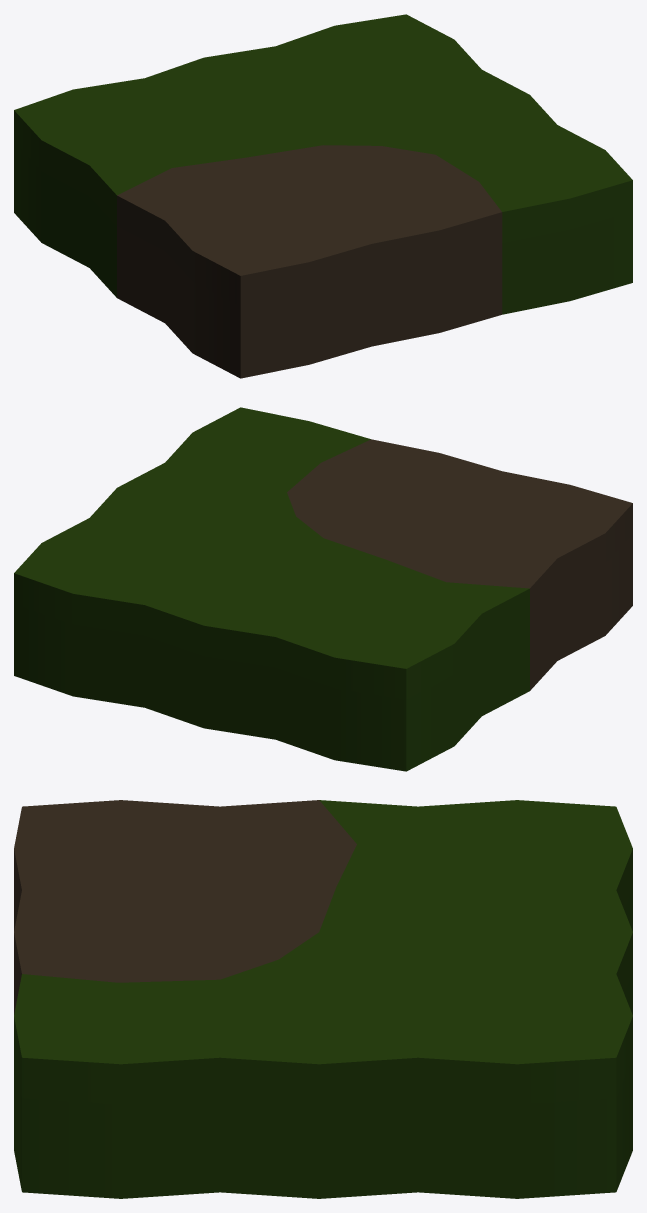
The model's file is jaggeredTile-08b_col.fbx.
3 views of the same model, one above another, from view 1: azimuth 30°, elevation 25°; view 2: azimuth 150°, elevation 25°; view 3: azimuth 270°, elevation 25° (orthographic). The views are drawn at different scales.
Visible parts, largest first — view 1: jaggeredTile-08b.col; view 2: jaggeredTile-08b.col; view 3: jaggeredTile-08b.col.
Part boxes in pixels (x1,y1,x2,y2): jaggeredTile-08b.col: [14, 14, 632, 378]; jaggeredTile-08b.col: [14, 407, 632, 771]; jaggeredTile-08b.col: [14, 800, 632, 1198].
Bounding box in the file's own units: 2.1 × 0.5 × 2.08.
Materials: 1 (1 with a texture image).
